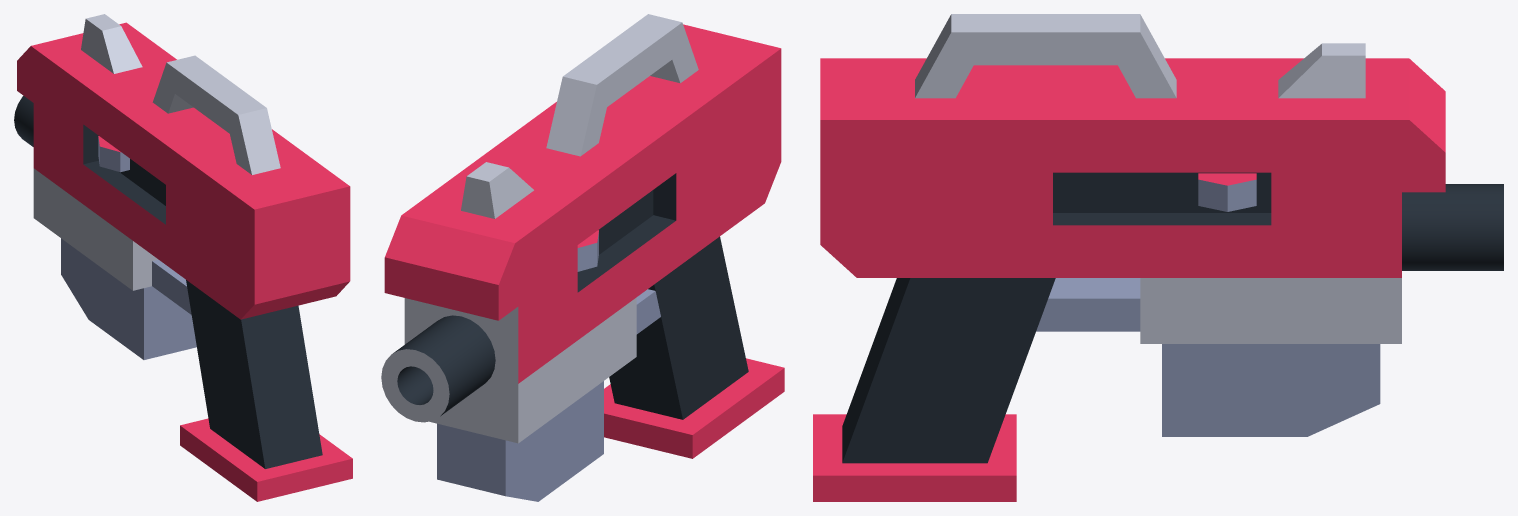
File: blasterC.dae
3 views of the same model, side by side, from view 1: azimuth 30°, elevation 25°; view 2: azimuth 150°, elevation 25°; view 3: azimuth 270°, elevation 25° (orthographic). The views are drawn at different scales.
Parts seen in each view (by area): view 1: blasterC; view 2: blasterC; view 3: blasterC.
Boxes of the visible parts, left/top/right/bottom form: blasterC: left=14, top=14, right=352, bottom=501; blasterC: left=381, top=14, right=784, bottom=501; blasterC: left=813, top=14, right=1503, bottom=501.
Bounding box in the file's own units: 0.1 × 0.34 × 0.475.
